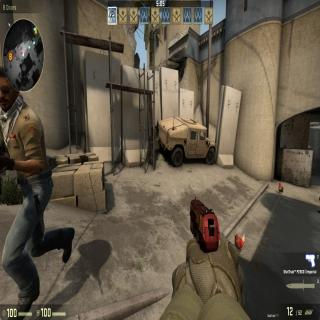T-Body: (0, 58, 55, 317)
T-Head: (0, 60, 21, 113)
